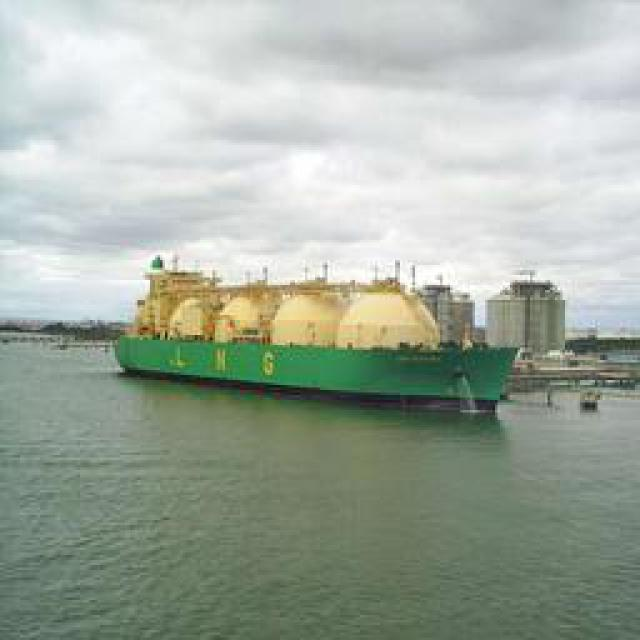Ship: (122, 267, 512, 417)
